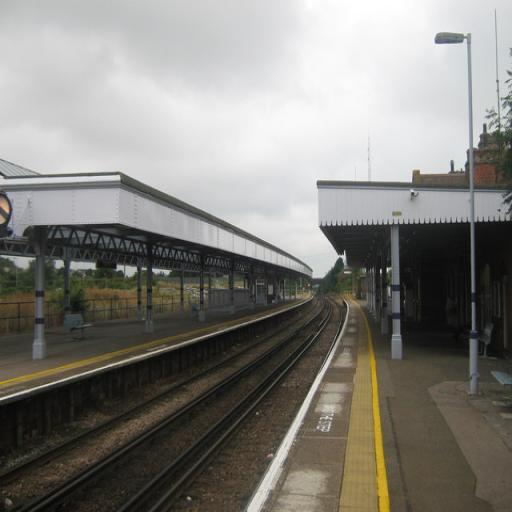platform_edge: (262, 319, 390, 512), (0, 354, 153, 413)
